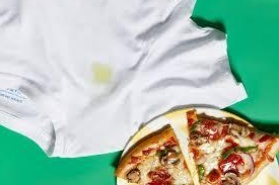oil: (90, 64, 117, 90)
